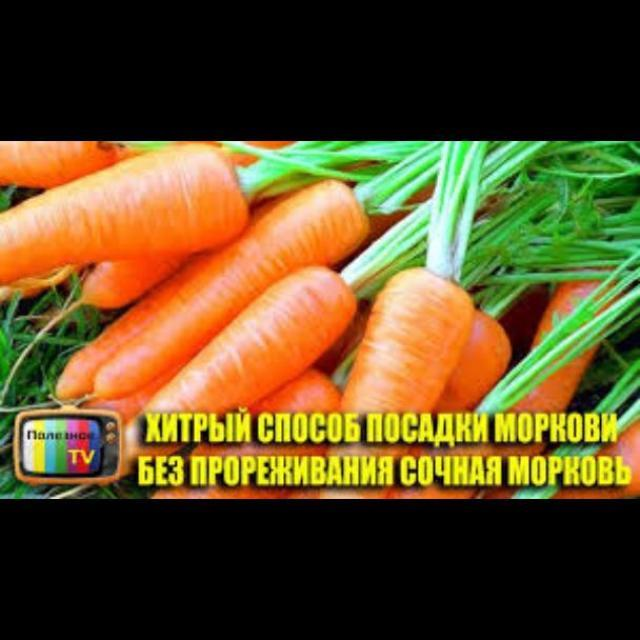Carrot: (87, 177, 378, 389), (95, 256, 356, 480), (0, 150, 234, 290), (152, 350, 352, 498), (344, 252, 458, 497), (523, 263, 591, 497), (532, 399, 640, 498)
